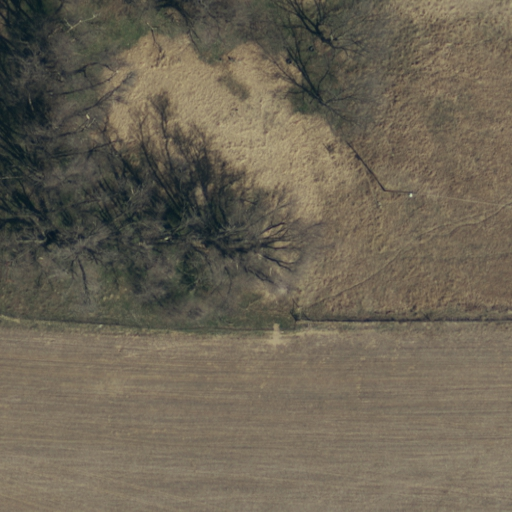DT: (377, 179, 421, 206)
